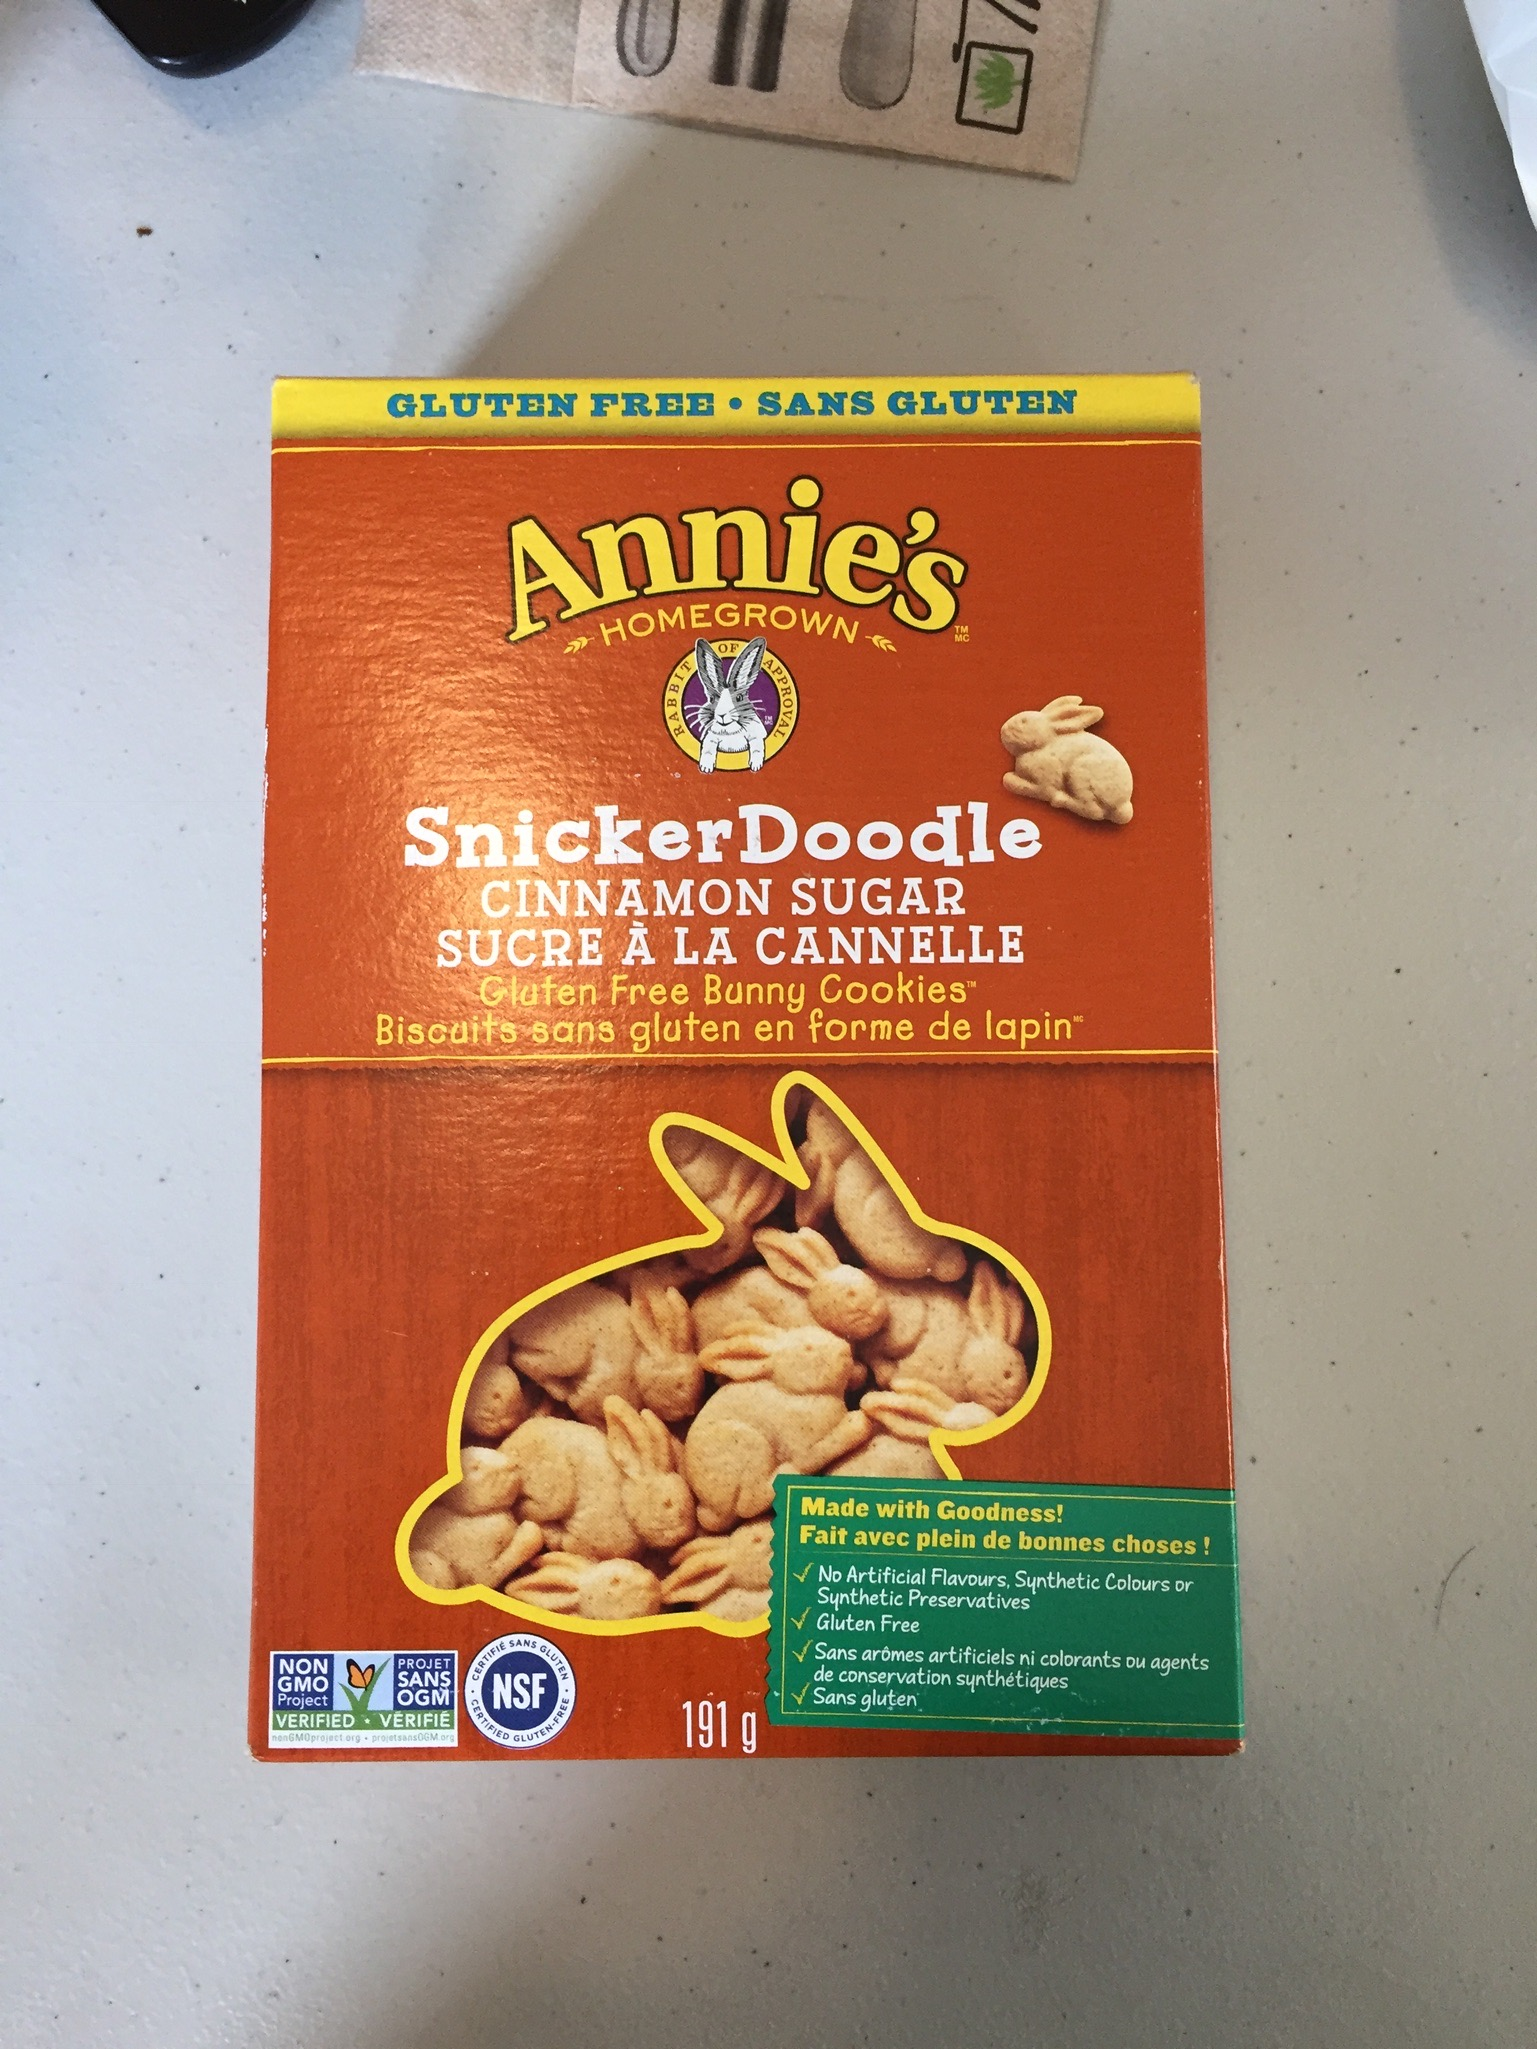annies_snickerdoodles_cinnamon_sugar: (286, 384, 1230, 1745)
